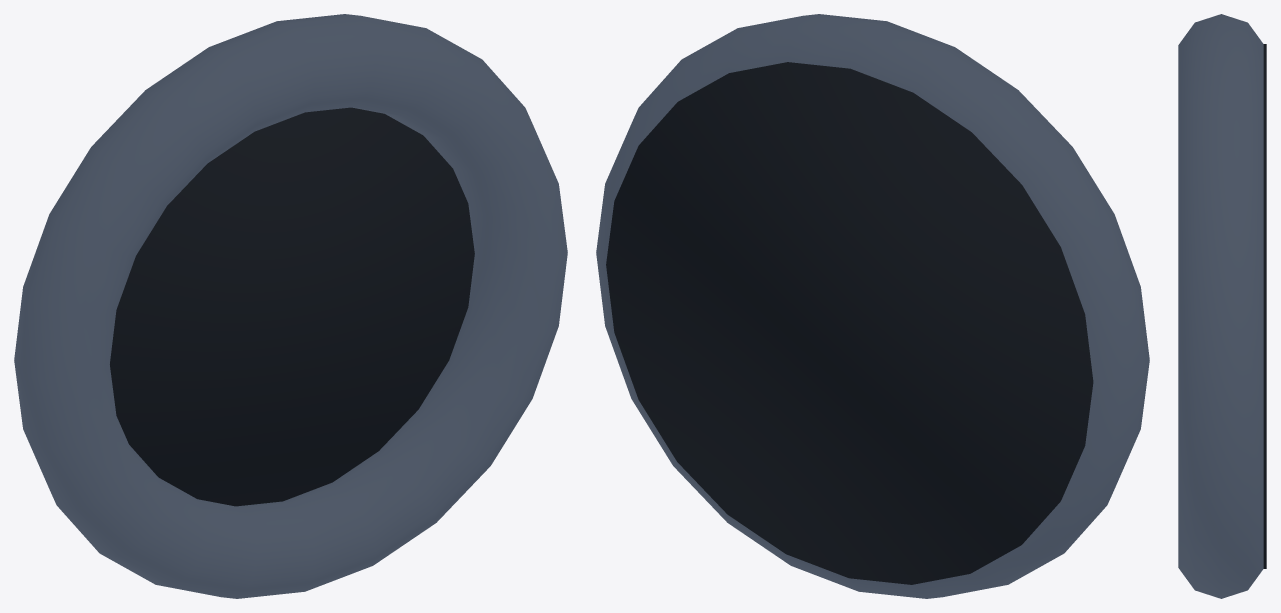
File: boton_base.glb
3 views of the same model, side by side, from view 1: azimuth 30°, elevation 25°; view 2: azimuth 150°, elevation 25°; view 3: azimuth 270°, elevation 25° (orthographic). The views are drawn at different scales.
Parts seen in each view (by area): view 1: Torus.007, Cylinder.070; view 2: Cylinder.070, Torus.007; view 3: Torus.007, Cylinder.070.
Part boxes in pixels (x1,y1,x2,y2): Torus.007: (14,14,567,598); Cylinder.070: (110,107,474,506); Cylinder.070: (606,62,1093,584); Torus.007: (596,14,1149,598); Torus.007: (1178,14,1263,598); Cylinder.070: (1263,44,1266,568).
Size of the model in its own units: 0.078 by 0.078 by 0.0117.
